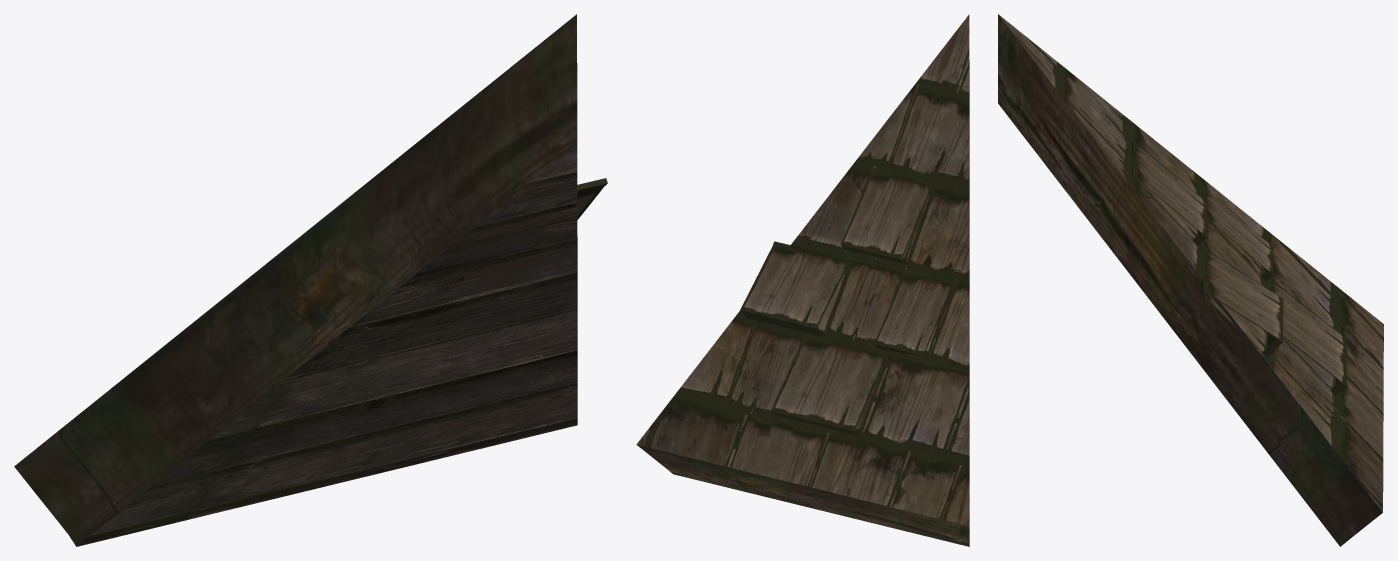
3 renders of one model, left to right at view 1: azimuth 30°, elevation 25°; view 2: azimuth 150°, elevation 25°; view 3: azimuth 270°, elevation 25°, orthographic. The views are drawn at different scales.
Visible parts, largest first — view 1: SM_BB_T1_Roof_Triangle_Med_Inverted_LOD0; view 2: SM_BB_T1_Roof_Triangle_Med_Inverted_LOD0; view 3: SM_BB_T1_Roof_Triangle_Med_Inverted_LOD0.
Boxes of the visible parts, left/top/right/bottom form: SM_BB_T1_Roof_Triangle_Med_Inverted_LOD0: left=14, top=14, right=607, bottom=546; SM_BB_T1_Roof_Triangle_Med_Inverted_LOD0: left=636, top=14, right=969, bottom=546; SM_BB_T1_Roof_Triangle_Med_Inverted_LOD0: left=998, top=14, right=1383, bottom=546.
Size of the model in its own units: 1.69 by 1.88 by 1.47.
Materials: 3 (3 with a texture image).
